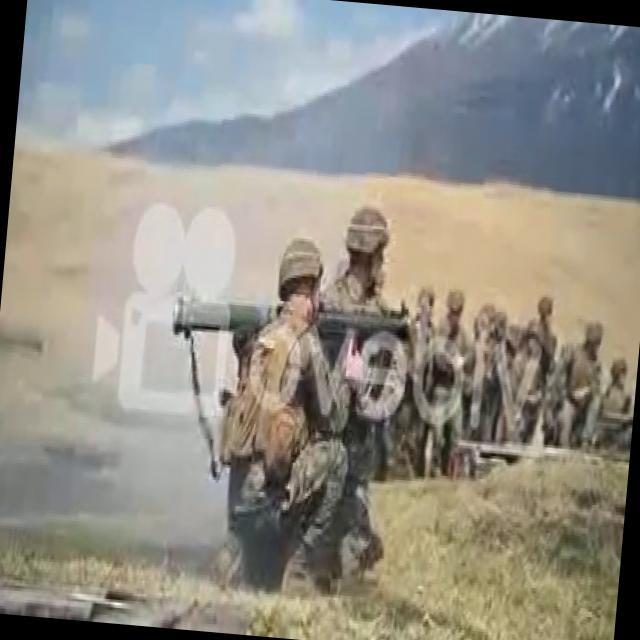rocket: (172, 286, 414, 349)
